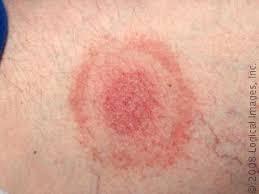Tick: (75, 37, 191, 166)
